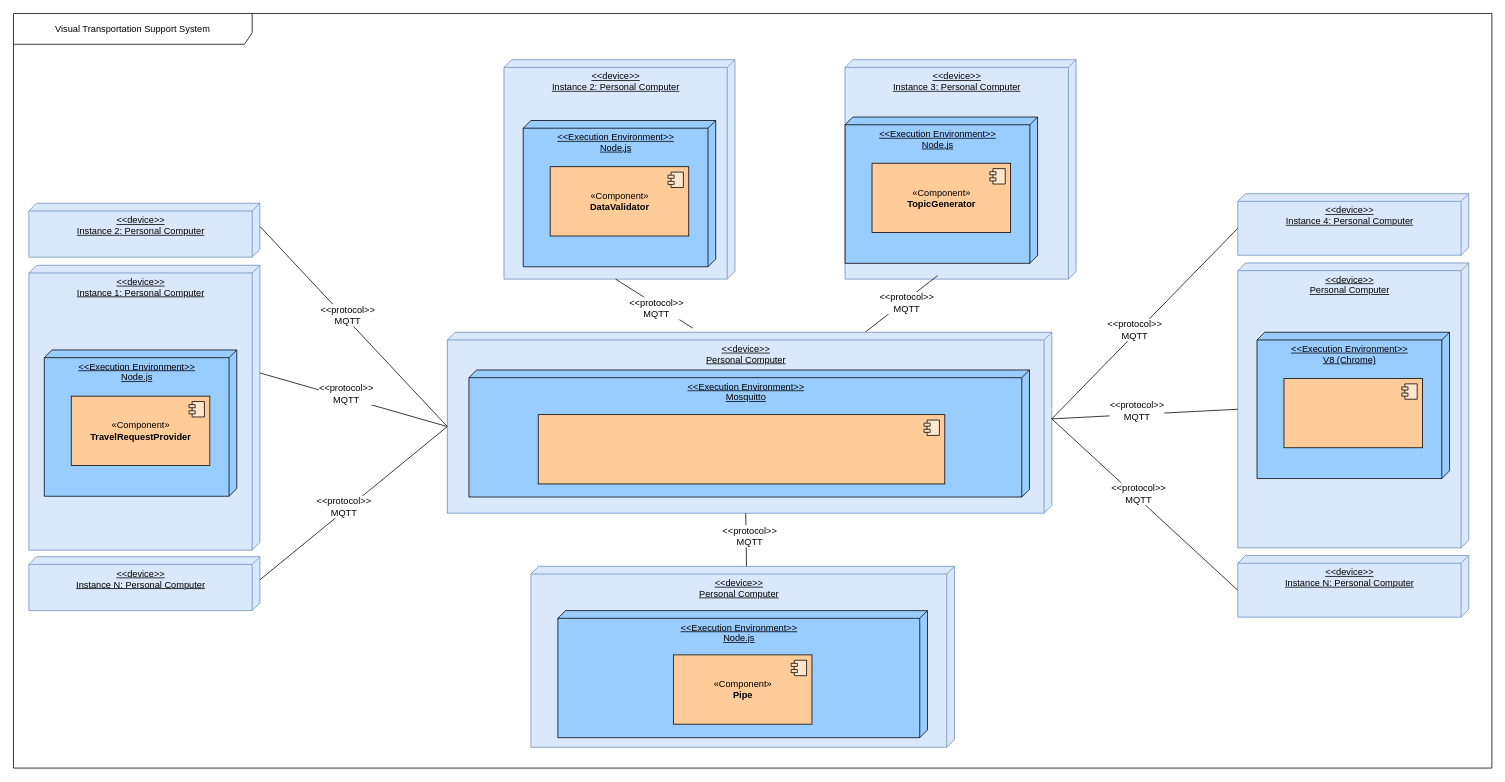
Some shapes in this 1505 by 782 pixel diagram are drawn without their labels. Each missing label, with the centre of its shape:
"«Component» Broker" goes at point (741, 449).
"«Component» Visualizer" goes at point (1353, 413).
